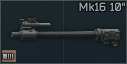FN SCAR-L 5.56x45 10 inch barrel: (0, 0, 127, 64)
